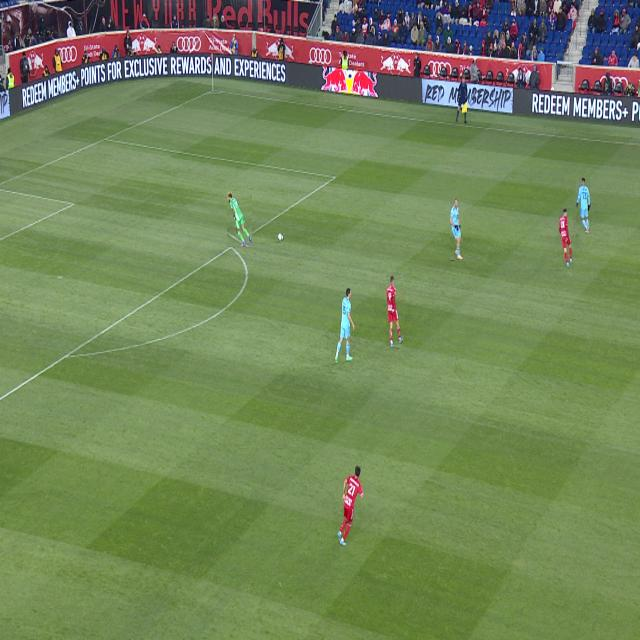football: (279, 234, 282, 241)
goalkeeper: (228, 192, 252, 247)
player: (337, 465, 364, 546), (334, 288, 355, 364), (387, 275, 403, 348), (559, 209, 573, 269), (450, 198, 463, 260), (577, 177, 590, 234)
